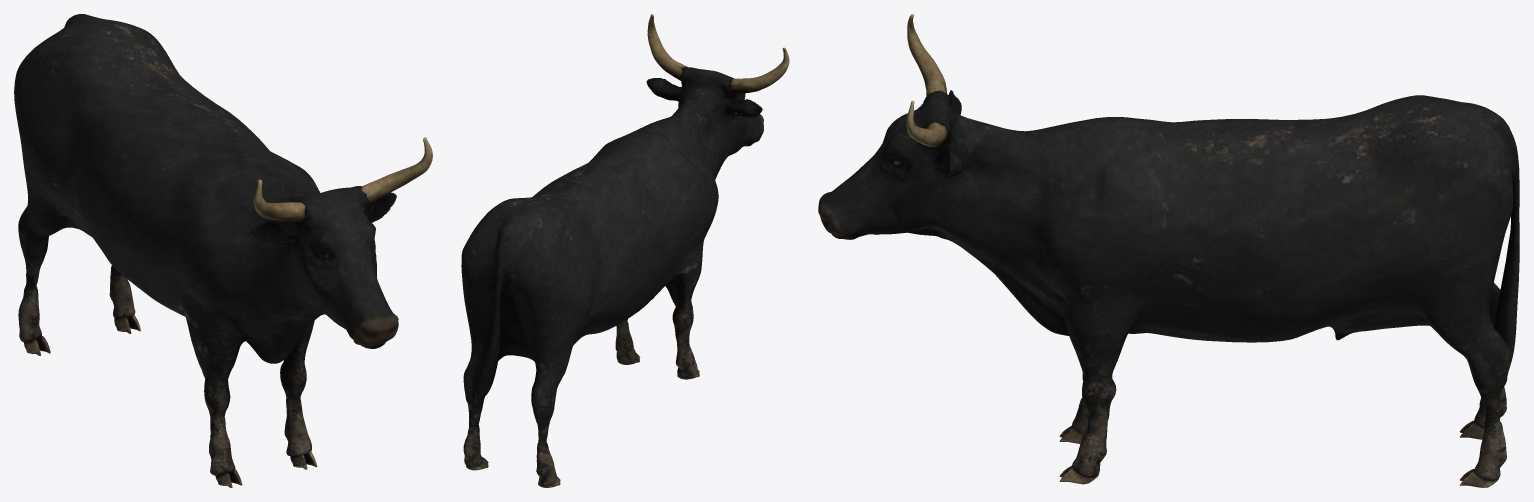
File: MZ4250 - Ox_Black.glb
3 views of the same model, side by side, from view 1: azimuth 30°, elevation 25°; view 2: azimuth 150°, elevation 25°; view 3: azimuth 270°, elevation 25° (orthographic). The views are drawn at different scales.
Visible parts, largest first — view 1: COW.001; view 2: COW.001; view 3: COW.001.
Part boxes in pixels (x1,y1,x2,y2): COW.001: (14, 14, 432, 487); COW.001: (461, 14, 789, 487); COW.001: (818, 14, 1519, 487).
Bounding box in the file's own units: 0.4682 × 0.9338 × 1.47.
1 material, 1 textured.
